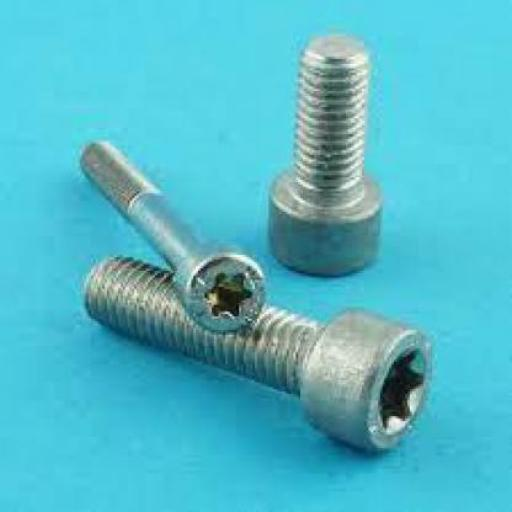Bolt: (82, 255, 433, 455), (79, 140, 267, 337), (268, 32, 383, 278)
